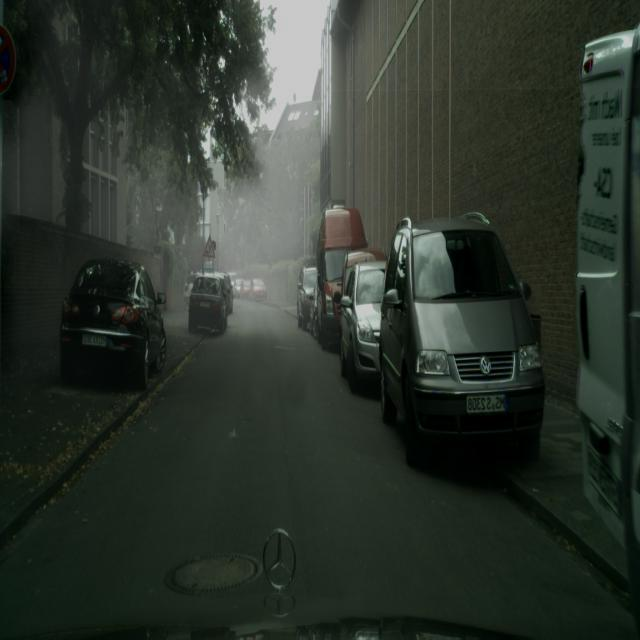bicycle: (574, 22, 640, 628), (313, 204, 368, 351)
bus: (378, 212, 545, 468), (59, 258, 167, 389), (337, 254, 386, 394), (188, 275, 228, 336), (297, 266, 318, 331), (220, 274, 233, 316), (251, 278, 267, 302), (239, 278, 252, 299), (231, 276, 242, 298)
